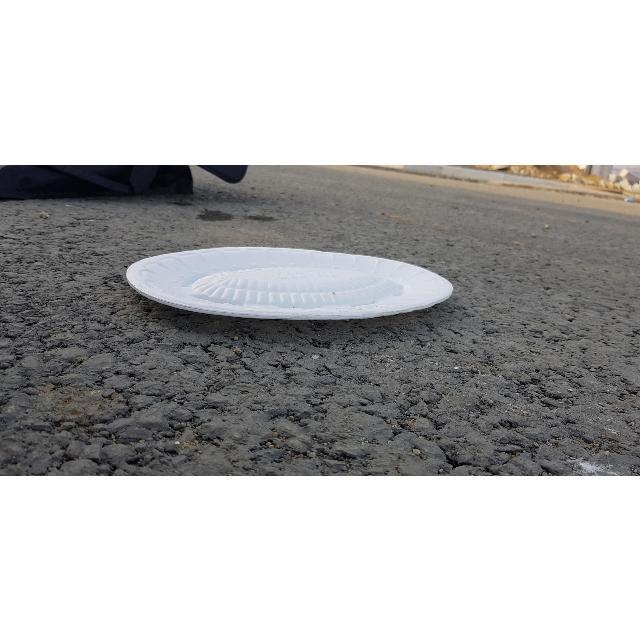Recipiente plastico: (126, 248, 452, 319)
